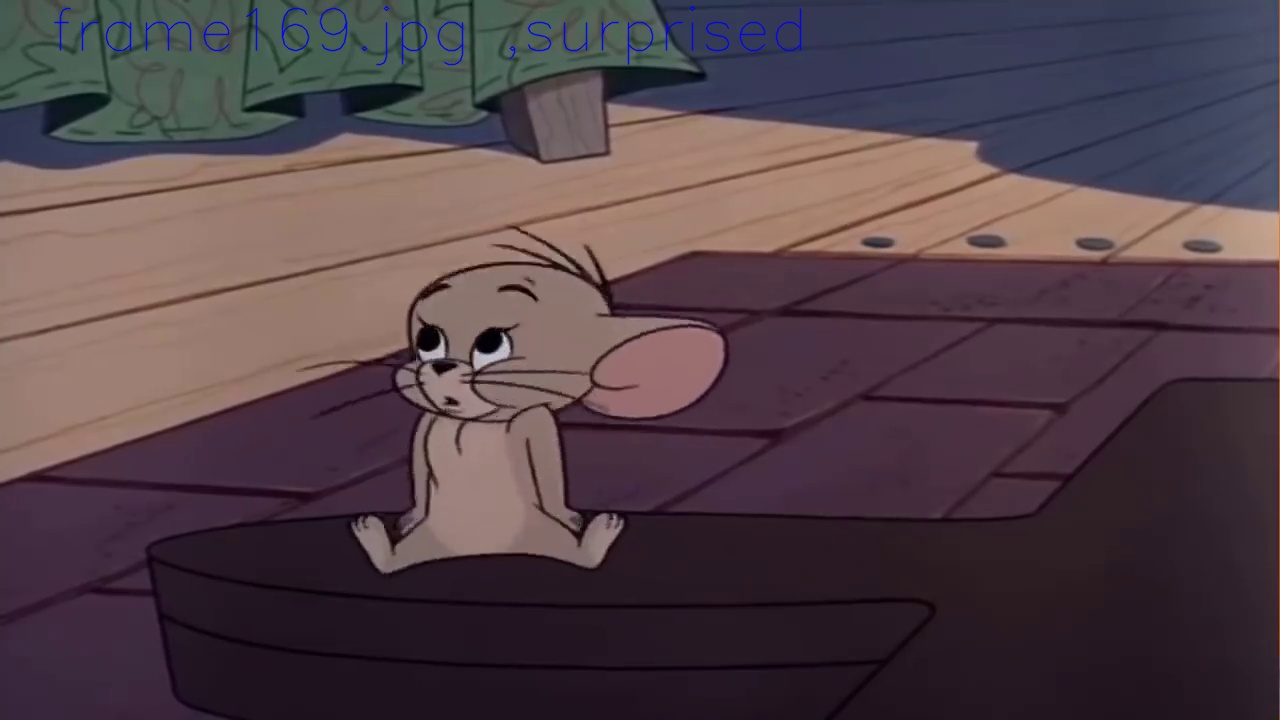surprised: (409, 285, 538, 416)
